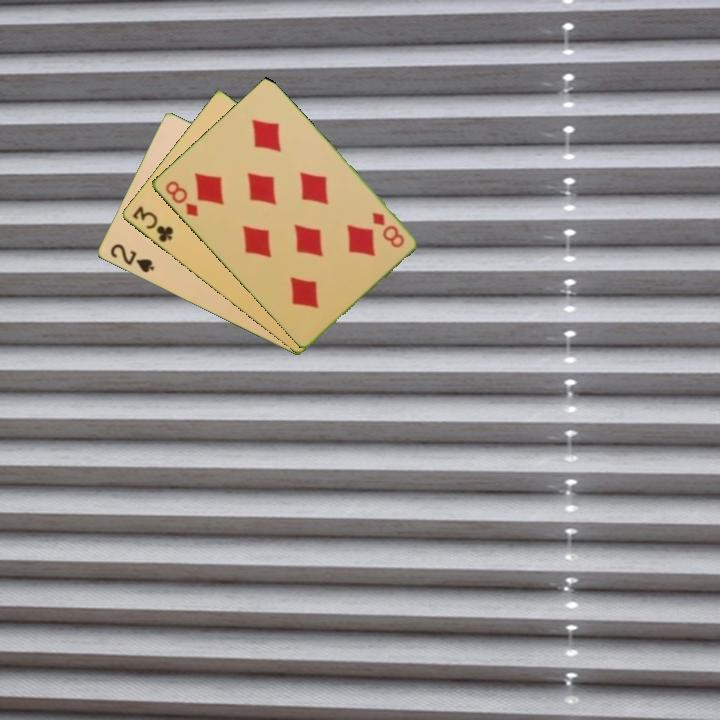2s: (106, 240, 157, 276)
3c: (128, 202, 176, 246)
8d: (161, 177, 201, 220), (368, 208, 407, 251)
